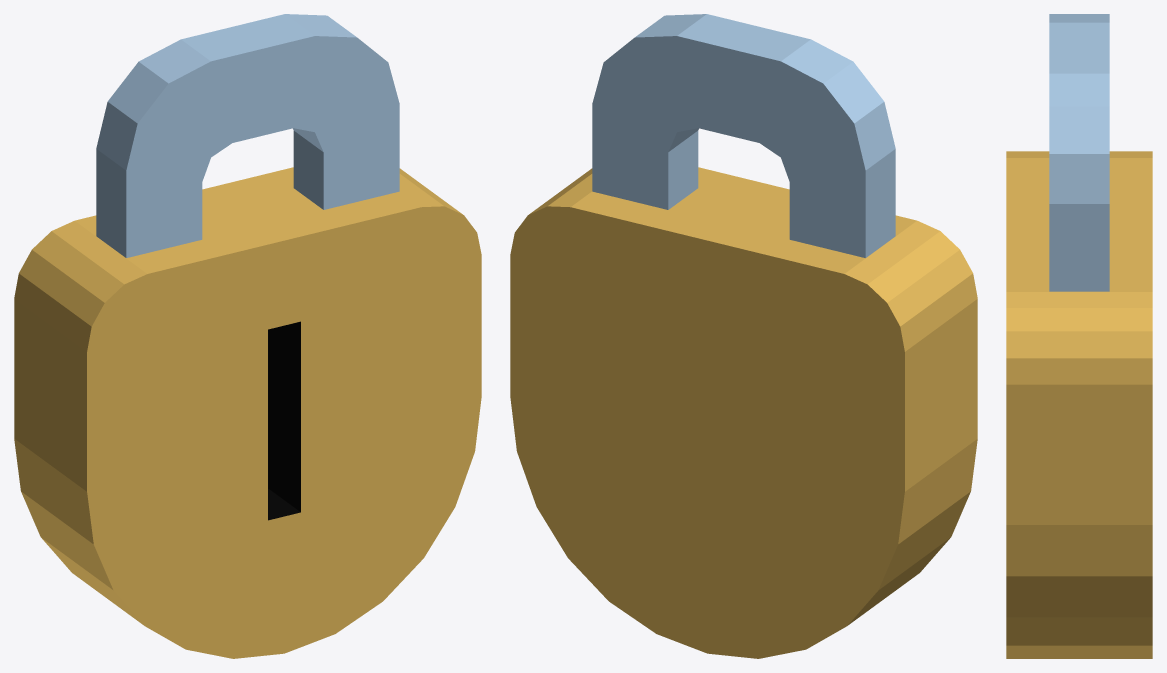
File: Candado.fbx
3 renders of one model, left to right at view 1: azimuth 30°, elevation 25°; view 2: azimuth 150°, elevation 25°; view 3: azimuth 270°, elevation 25°, orthographic.
Parts seen in each view (by area): view 1: Cubo; view 2: Cubo; view 3: Cubo.
Boxes of the visible parts, <box> form: Cubo: <box>14,14,481,658</box>; Cubo: <box>510,14,977,658</box>; Cubo: <box>1006,14,1152,658</box>.
Bounding box in the file's own units: 200 × 285 × 63.98.
